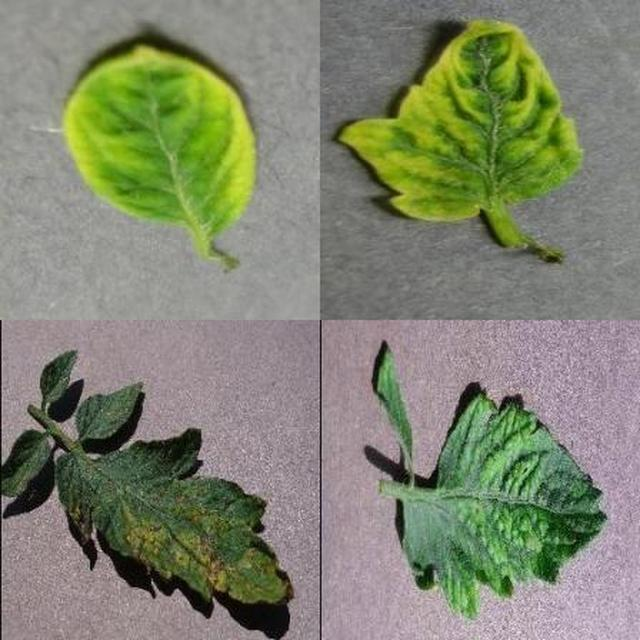Yellow Leaf Curl Virus: (57, 171, 640, 640)
